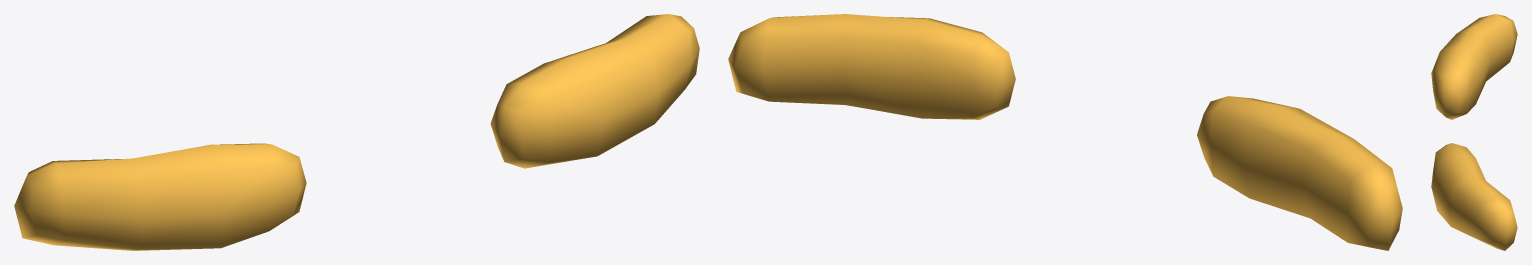
File: Eyebrows_01_05.fbx
The picture shows the model from 3 angles, left to right: view 1: azimuth 30°, elevation 25°; view 2: azimuth 150°, elevation 25°; view 3: azimuth 270°, elevation 25°; orthographic projection. The views are drawn at different scales.
Visible parts, largest first — view 1: Eyebrows_01_05; view 2: Eyebrows_01_05; view 3: Eyebrows_01_05.
Boxes of the visible parts, <box> form: Eyebrows_01_05: <box>14,14,699,250</box>; Eyebrows_01_05: <box>728,14,1402,250</box>; Eyebrows_01_05: <box>1431,14,1517,250</box>.
Bounding box in the file's own units: 18.54 × 2.63 × 3.34.
